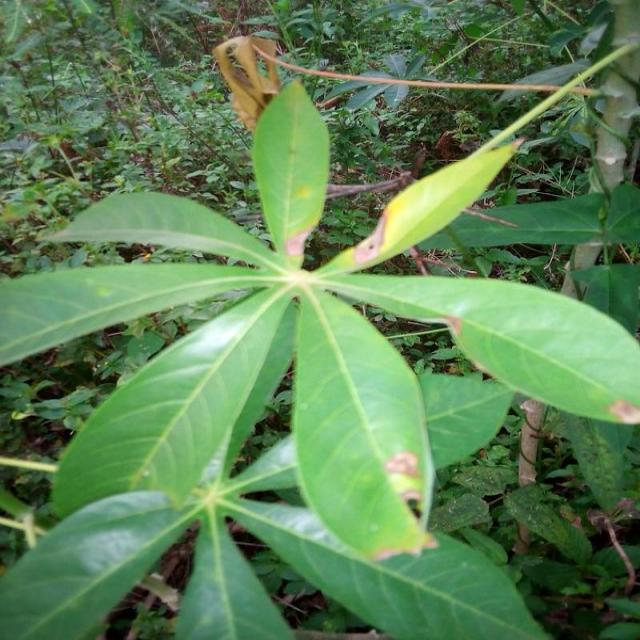cassava leaf: (2, 69, 639, 637), (293, 285, 437, 560), (252, 79, 332, 260)
